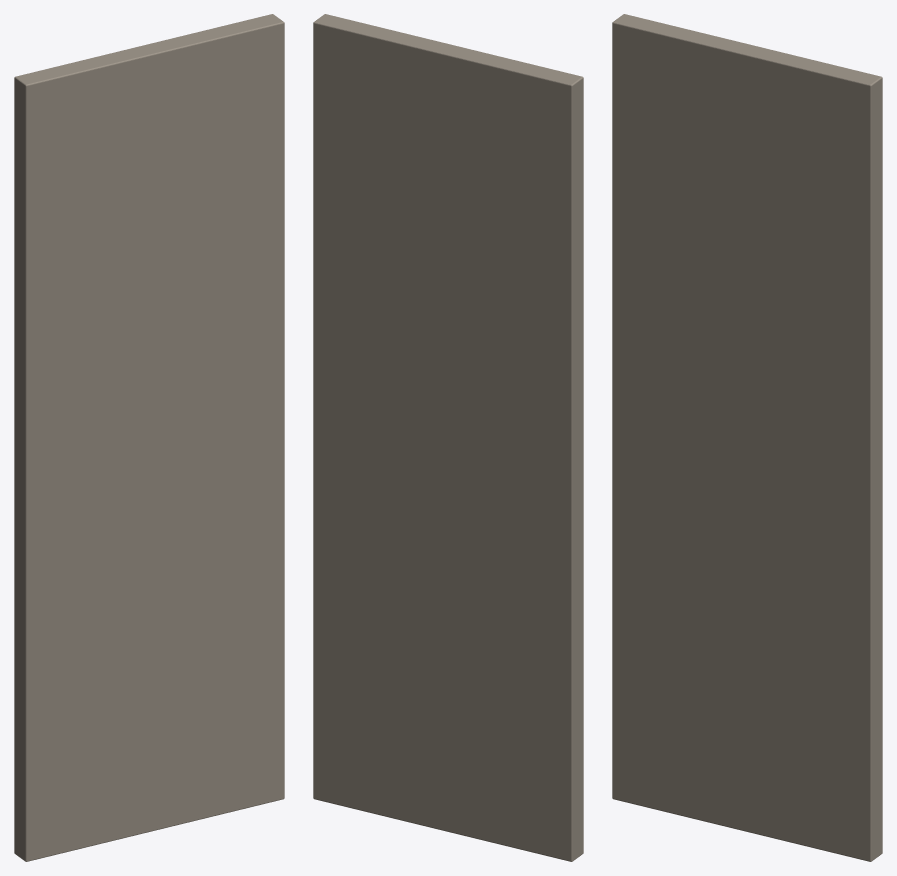
The model's file is SM_Dormitory_Elevator_Door_Right.fbx.
3 views of the same model, side by side, from view 1: azimuth 30°, elevation 25°; view 2: azimuth 150°, elevation 25°; view 3: azimuth 330°, elevation 25° (orthographic).
Visible parts, largest first — view 1: DORM_INT_Elevator_Door_Right.001; view 2: DORM_INT_Elevator_Door_Right.001; view 3: DORM_INT_Elevator_Door_Right.001.
Part boxes in pixels (<box>): DORM_INT_Elevator_Door_Right.001: <box>14,14,284,861</box>; DORM_INT_Elevator_Door_Right.001: <box>313,14,583,861</box>; DORM_INT_Elevator_Door_Right.001: <box>612,14,882,861</box>.
Bounding box in the file's own units: 69.1 × 5.5 × 198.
